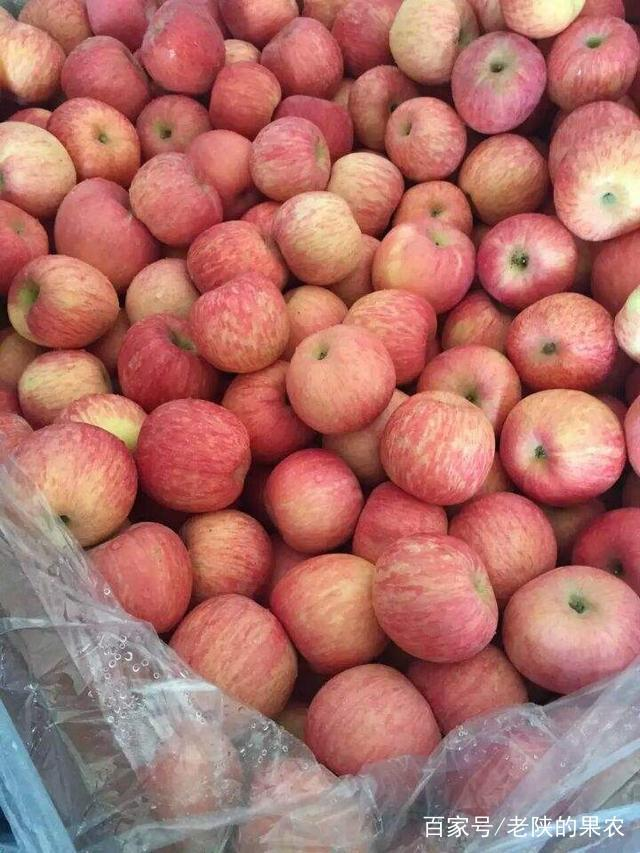apple: (501, 567, 639, 699), (165, 594, 297, 721), (373, 533, 501, 662), (302, 662, 442, 779), (12, 425, 137, 546), (272, 554, 395, 674), (501, 386, 624, 504), (133, 401, 255, 513), (384, 387, 495, 508), (82, 518, 193, 638), (286, 322, 398, 433), (450, 493, 558, 602), (54, 180, 163, 287), (9, 255, 123, 350), (186, 271, 289, 376), (448, 31, 555, 132), (266, 446, 364, 553), (555, 124, 640, 247), (508, 294, 619, 384), (478, 214, 582, 309), (115, 316, 224, 404), (374, 220, 474, 314), (172, 509, 275, 599), (274, 188, 366, 285), (128, 151, 220, 247), (45, 97, 145, 185), (344, 288, 437, 382), (550, 13, 640, 107), (421, 348, 524, 429), (57, 31, 148, 118), (183, 219, 286, 295), (138, 7, 228, 92), (462, 134, 547, 222), (251, 112, 334, 202), (1, 120, 75, 220), (389, 1, 480, 81), (186, 125, 262, 219), (260, 18, 345, 102), (385, 99, 473, 178), (15, 352, 111, 424), (348, 61, 419, 149), (325, 151, 402, 232), (208, 60, 284, 136), (569, 506, 640, 587), (138, 90, 213, 163), (1, 203, 49, 300), (388, 179, 474, 232)
